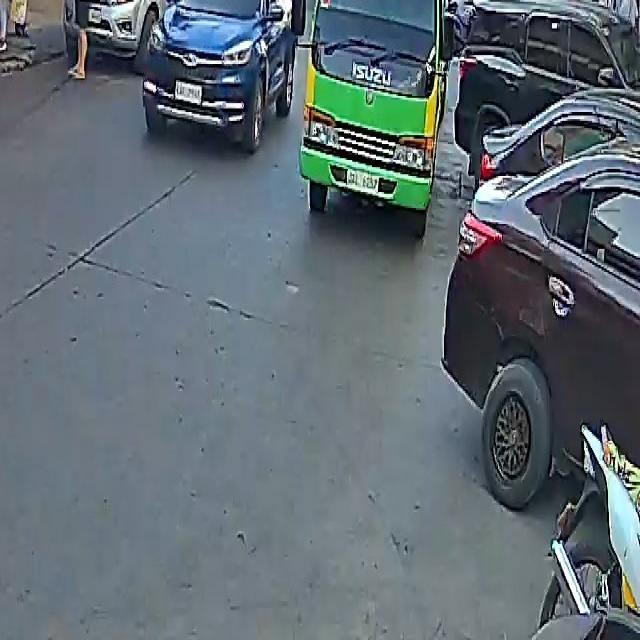car: (443, 44, 640, 537), (444, 0, 640, 204), (137, 0, 298, 151), (71, 0, 194, 60)
